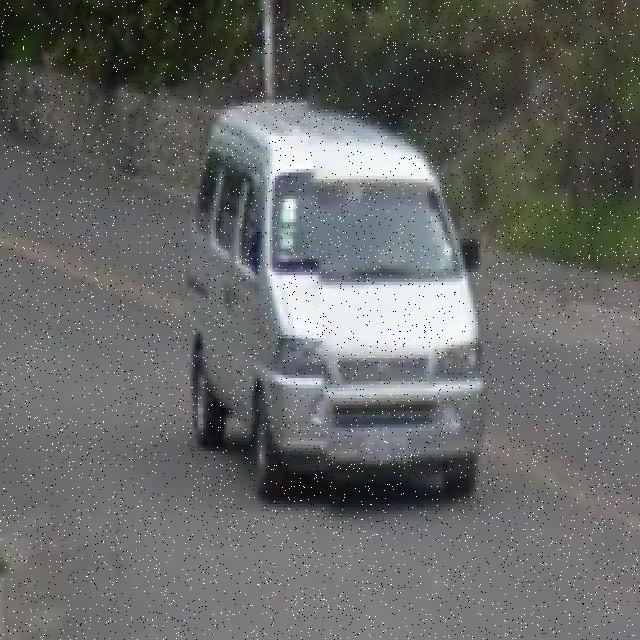cars: (183, 114, 486, 494)
